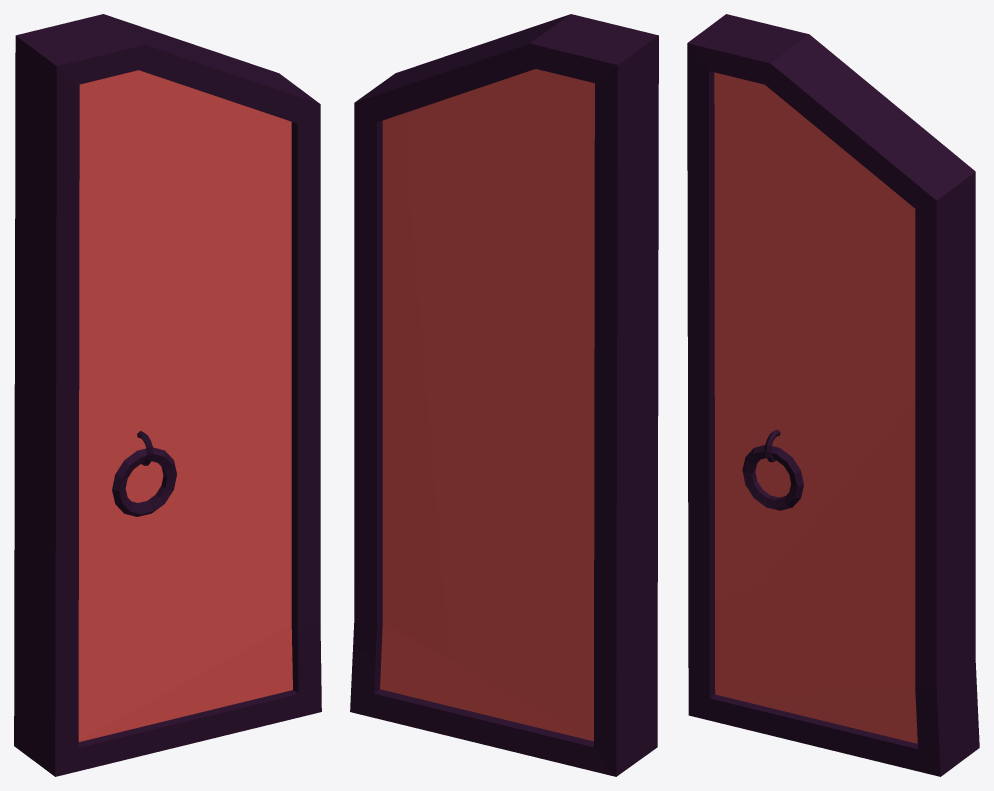
File: ForestCastleDoorR.fbx
The picture shows the model from 3 angles, left to right: view 1: azimuth 30°, elevation 25°; view 2: azimuth 150°, elevation 25°; view 3: azimuth 330°, elevation 25°; orthographic projection. The views are drawn at different scales.
Visible parts, largest first — view 1: ForestCastleDoorR; view 2: ForestCastleDoorR; view 3: ForestCastleDoorR.
Part boxes in pixels (box(x1,y1,x2,y2)): ForestCastleDoorR: box(14, 14, 321, 776); ForestCastleDoorR: box(350, 14, 658, 776); ForestCastleDoorR: box(687, 14, 979, 776).
Bounding box in the file's own units: 162 × 413 × 51.
